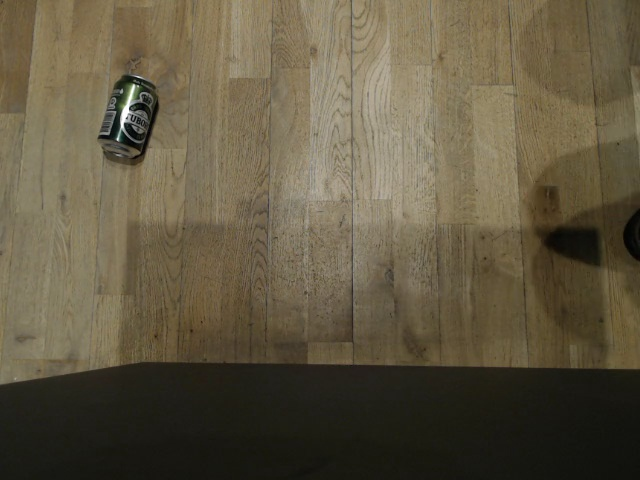beer: (448, 325, 543, 371), (142, 319, 233, 366), (389, 0, 454, 45)
cola: (599, 207, 640, 278)
